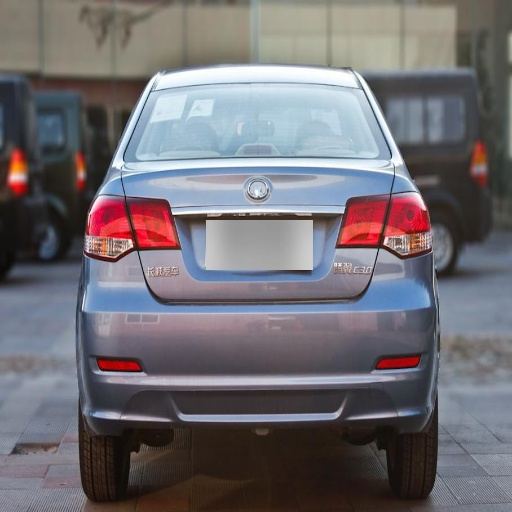back_bumper: (82, 247, 439, 429)
tailgate: (125, 154, 390, 301)
trunk: (125, 172, 173, 209)
